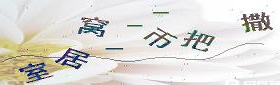chinese: (140, 25, 175, 51), (184, 26, 216, 53), (57, 48, 88, 71), (243, 11, 274, 34), (79, 15, 108, 39), (17, 61, 47, 83)
